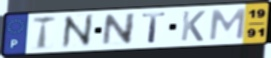K: (179, 10, 207, 43)
M: (207, 7, 248, 42)
N: (100, 11, 138, 47), (61, 13, 94, 51)
T: (31, 15, 58, 51), (141, 11, 168, 45)
